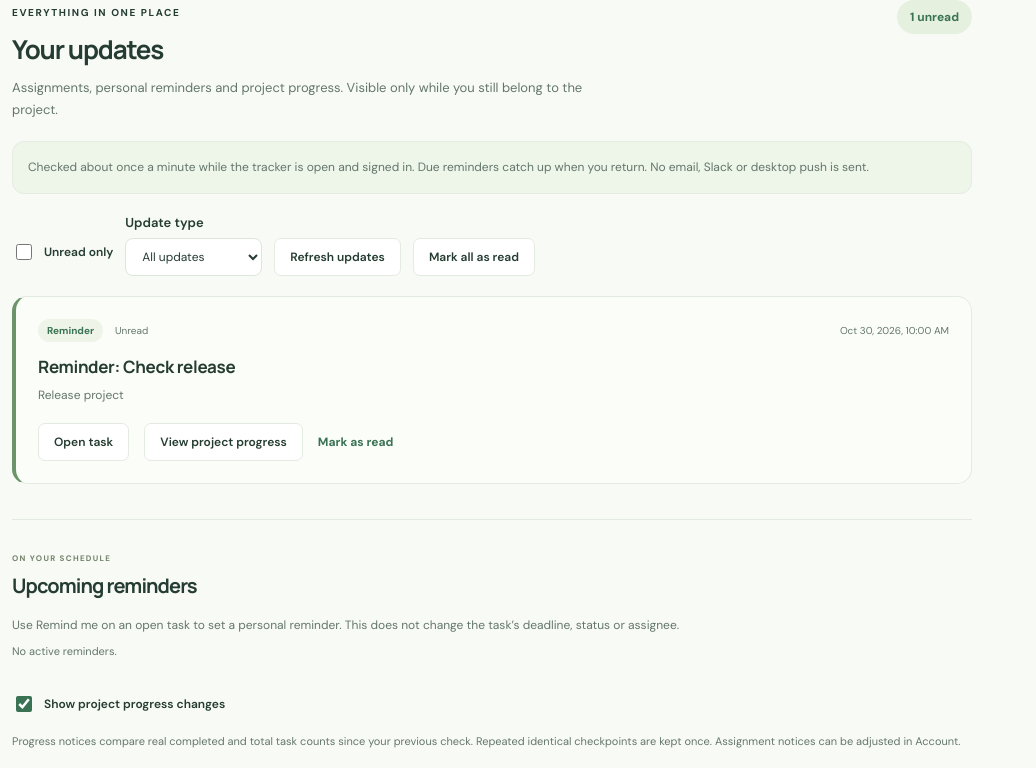
Test: shows unread updates, opens task/project and persists read/unread actions
Click the button "Open task" at [84, 442], box [38,423,129,461]
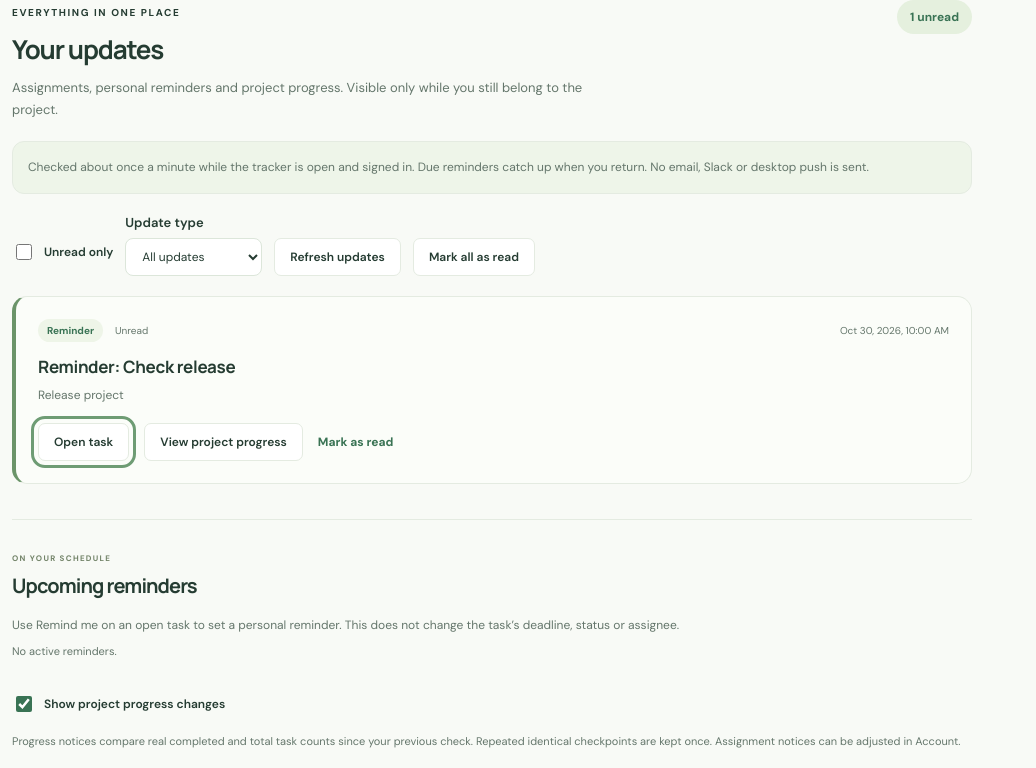
Click the button "View project progress" at [224, 442], box [144,423,303,461]
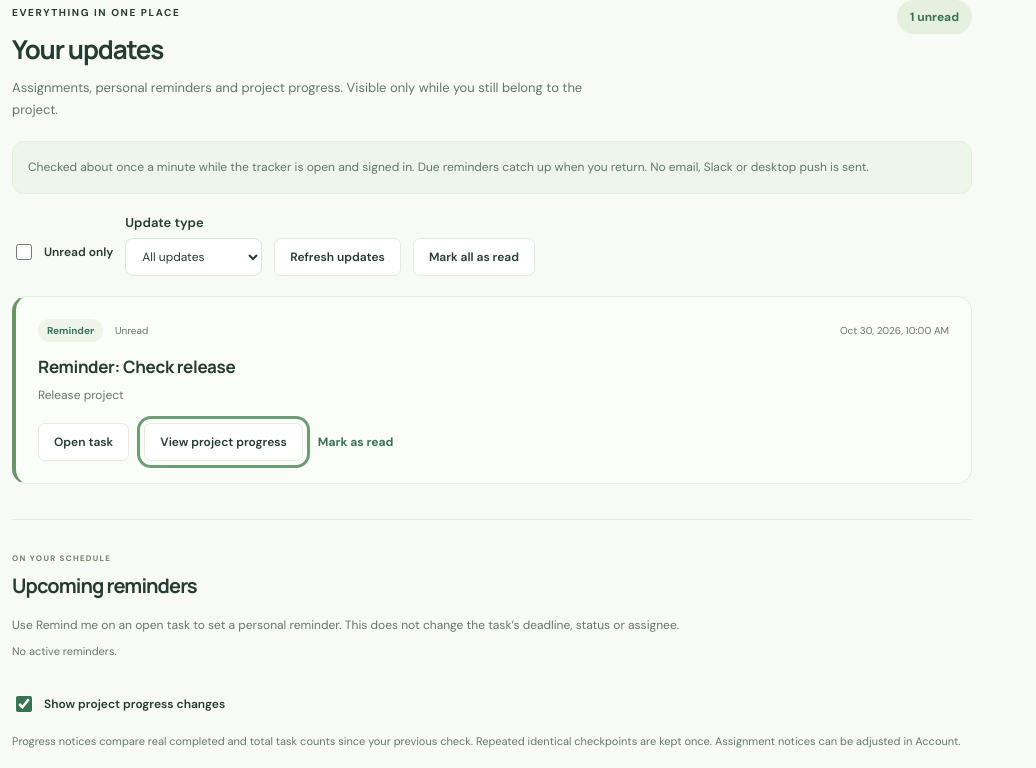
Click the button "Mark as read" at [356, 442], box [318,434,393,450]
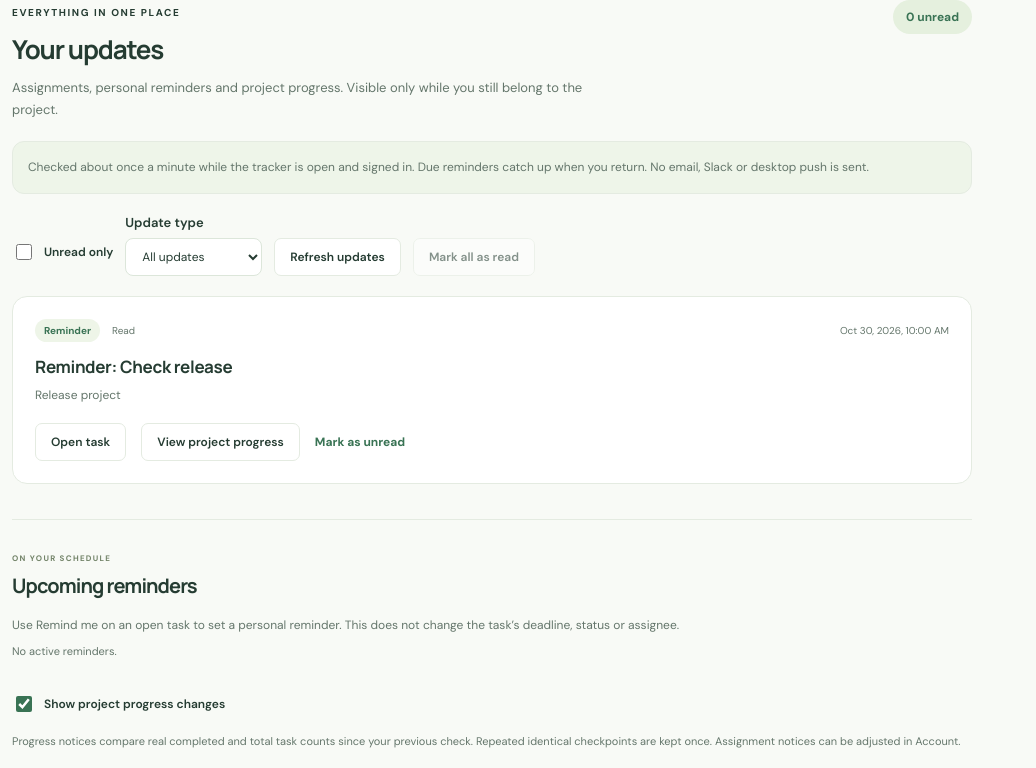
Now the button "Mark as unread" is shown
Click the button "Mark as unread" at [360, 442], box [315,434,405,450]
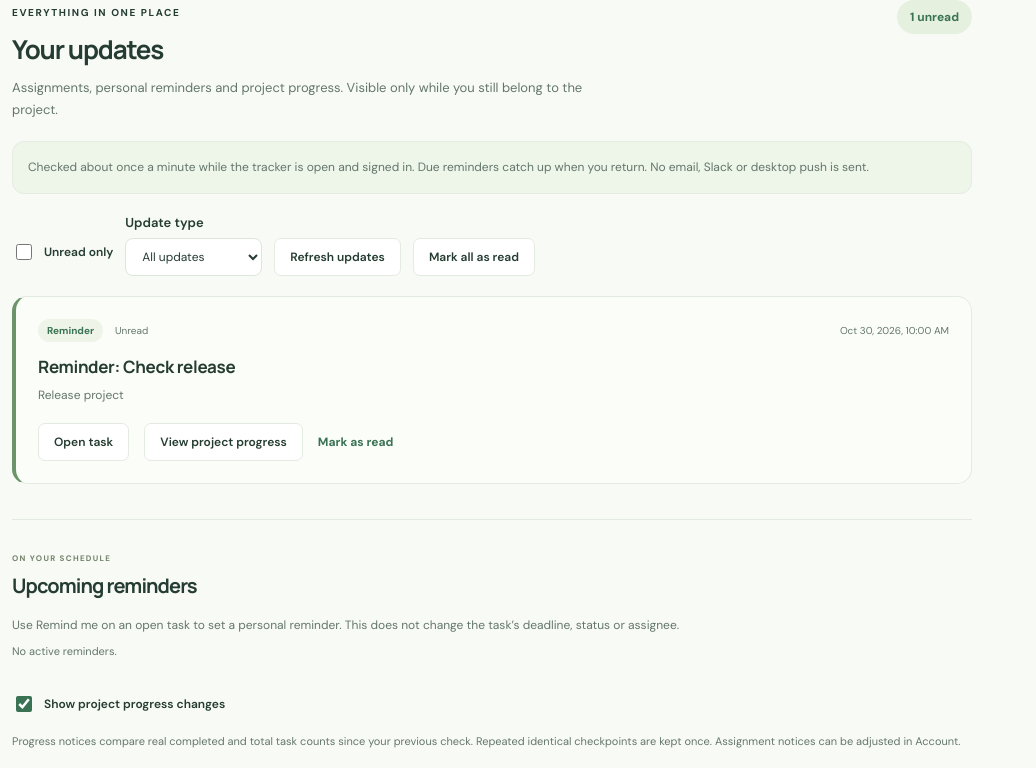
Now the button "Mark as read" is shown, box [318,434,393,450]
